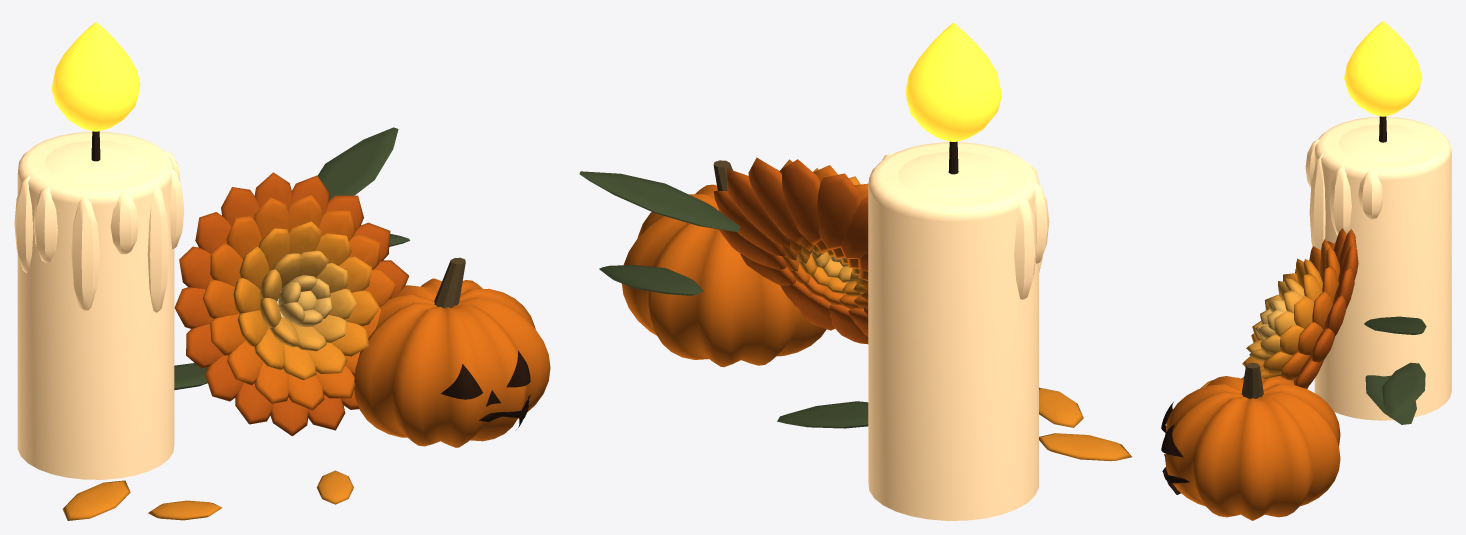
Rendered from escena-temporada.glb.
The picture shows the model from 3 angles, left to right: view 1: azimuth 30°, elevation 25°; view 2: azimuth 150°, elevation 25°; view 3: azimuth 270°, elevation 25°; orthographic projection. The views are drawn at different scales.
Parts seen in each view (by area): view 1: Vela, Calabaza, Cempasuchil0, Cempasuchil1, Cempasuchil2, Llama, Cempasuchil3, Hojas, PetalosCaidos, Cempasuchil4, CalabazaCara, Tallo; view 2: Vela, Calabaza, Cempasuchil0, Llama, Hojas, PetalosCaidos, Cempasuchil1, Cempasuchil2, Cempasuchil3; view 3: Vela, Calabaza, Llama, Hojas, Cempasuchil0, Cempasuchil1, Cempasuchil2, Cempasuchil3, CalabazaCara, Cempasuchil4, Tallo.
Part boxes in pixels (x1,y1,x2,y2): Vela: [14, 132, 184, 479]; Calabaza: [354, 278, 550, 447]; Cempasuchil0: [174, 172, 408, 436]; Cempasuchil1: [203, 195, 397, 410]; Cempasuchil2: [233, 221, 379, 380]; Llama: [51, 22, 140, 131]; Cempasuchil3: [260, 250, 356, 351]; Hojas: [174, 127, 409, 390]; PetalosCaidos: [62, 470, 353, 520]; Cempasuchil4: [278, 275, 332, 326]; CalabazaCara: [441, 350, 530, 429]; Tallo: [434, 257, 465, 308]; Vela: [868, 142, 1049, 520]; Calabaza: [622, 184, 826, 367]; Cempasuchil0: [713, 157, 868, 344]; Llama: [905, 22, 1001, 141]; Hojas: [579, 171, 868, 428]; PetalosCaidos: [1039, 387, 1131, 461]; Cempasuchil1: [779, 159, 868, 309]; Cempasuchil2: [797, 168, 867, 296]; Cempasuchil3: [811, 250, 858, 282]; Vela: [1305, 116, 1451, 420]; Calabaza: [1165, 376, 1340, 520]; Llama: [1344, 21, 1421, 116]; Hojas: [1364, 316, 1426, 424]; Cempasuchil0: [1294, 228, 1358, 388]; Cempasuchil1: [1281, 239, 1339, 380]; Cempasuchil2: [1242, 258, 1322, 378]; Cempasuchil3: [1246, 278, 1304, 361]; CalabazaCara: [1161, 402, 1189, 494]; Cempasuchil4: [1255, 299, 1286, 339]; Tallo: [1241, 362, 1263, 398].
Bounding box in the file's own units: 3.4 × 3.05 × 2.12.
